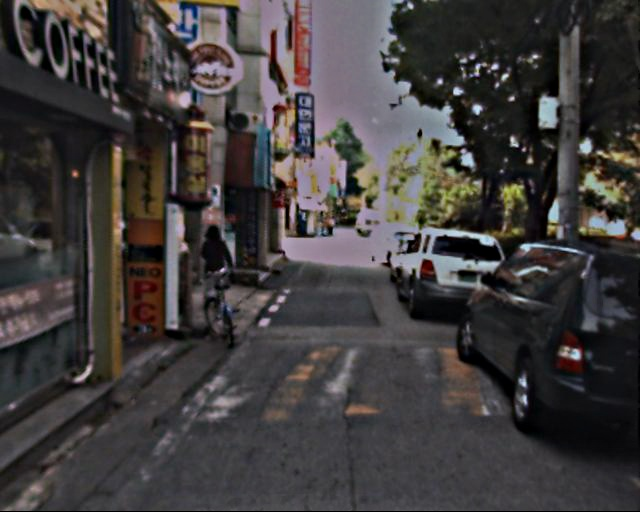person: (194, 224, 235, 316)
